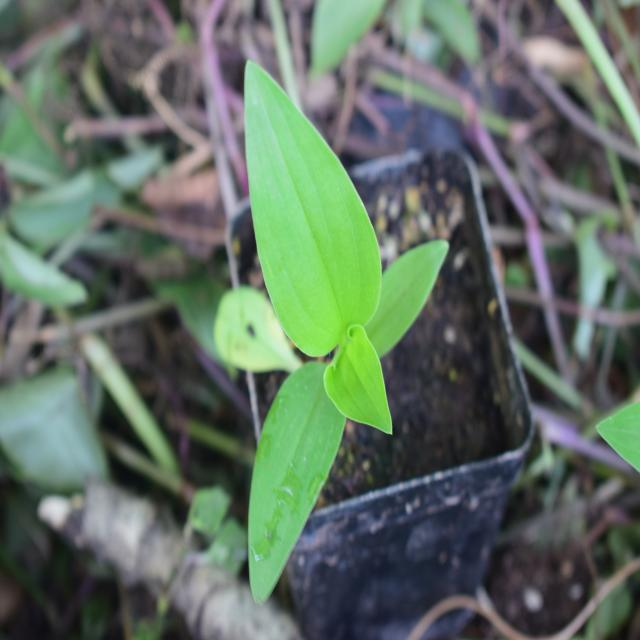Common Dayflower: (203, 62, 443, 596)
